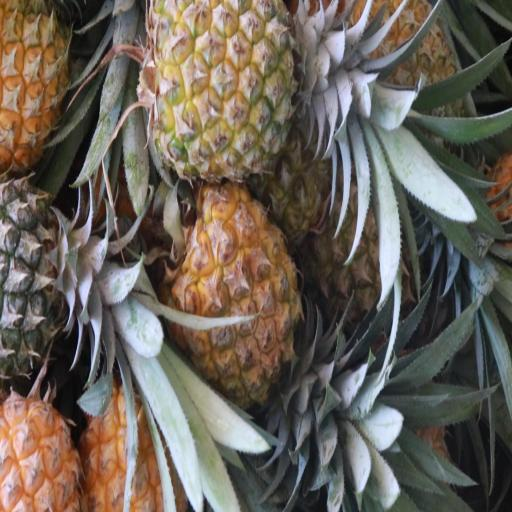------------------------------: (338, 0, 451, 169)
Pineapple - v8 v1: (161, 180, 295, 410), (144, 0, 297, 177), (0, 0, 69, 184)
